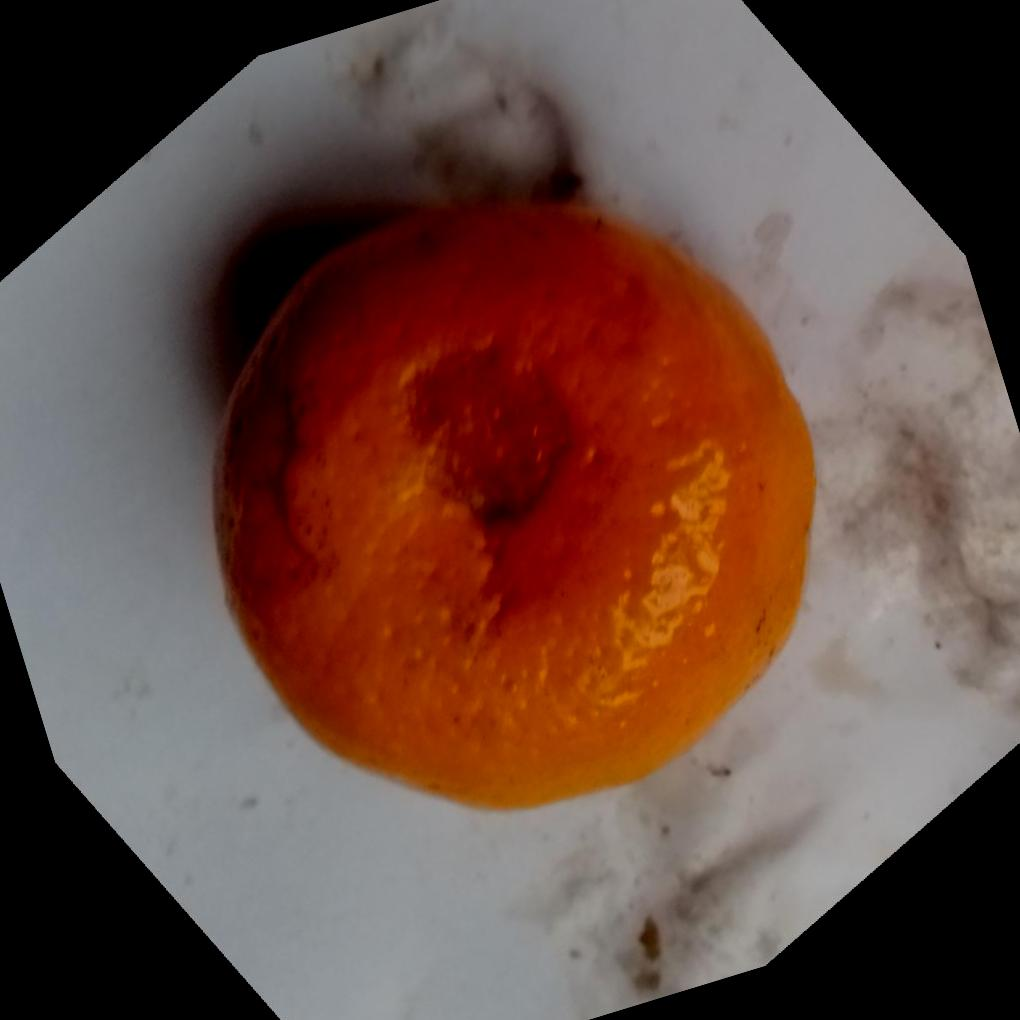FreshOrange: (209, 192, 817, 810)
